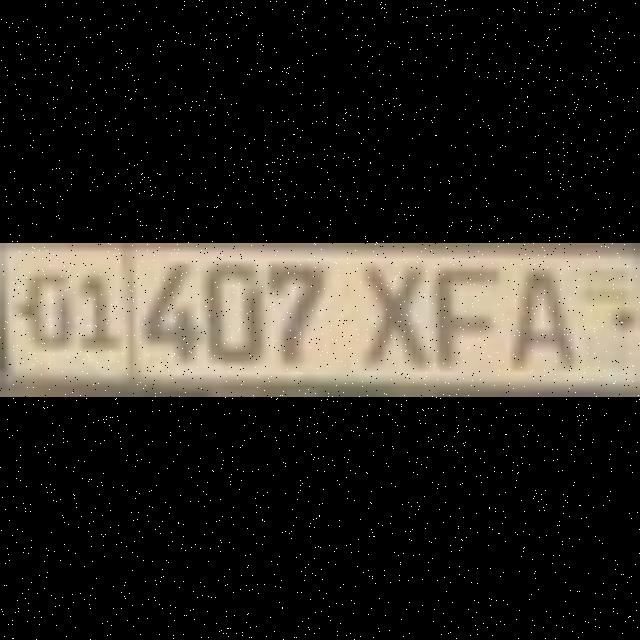0: (196, 256, 256, 358), (21, 270, 68, 344)
1: (74, 270, 114, 344)
4: (134, 256, 196, 358)
7: (263, 256, 317, 358)
A: (506, 256, 566, 364)
F: (424, 256, 492, 364)
X: (358, 256, 424, 364)
